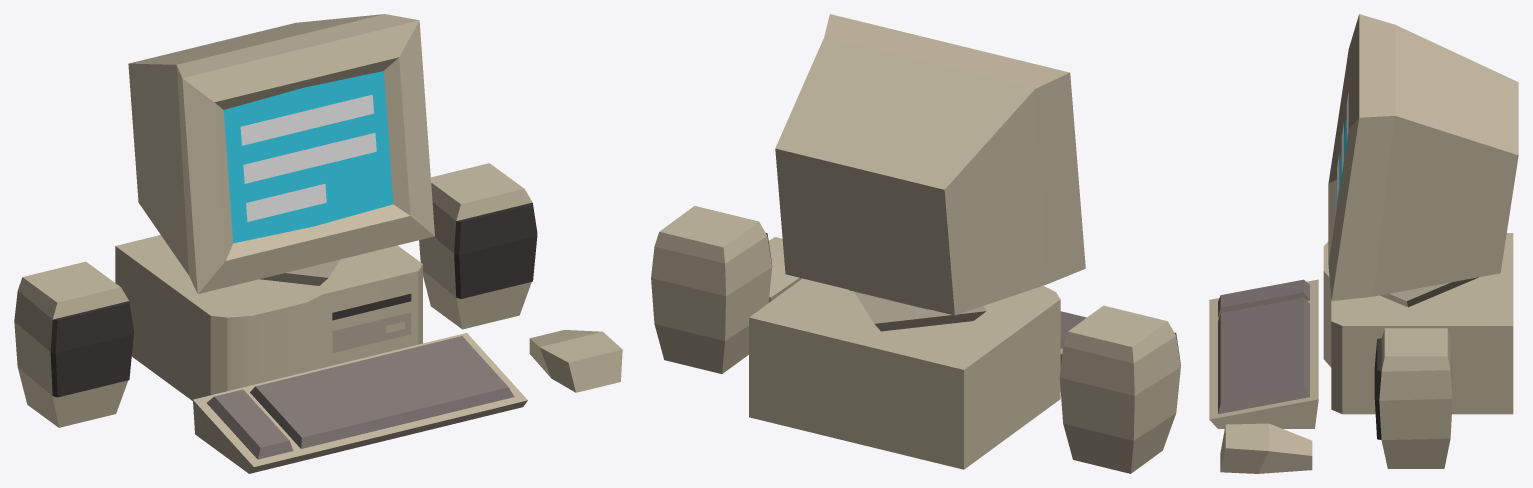
Rendered from Computer 90s.glb.
The picture shows the model from 3 angles, left to right: view 1: azimuth 30°, elevation 25°; view 2: azimuth 150°, elevation 25°; view 3: azimuth 270°, elevation 25°; orthographic projection. The views are drawn at different scales.
Visible parts, largest first — view 1: monitorAxistilt, computerbody, speakers, keyboard, screentext, mouse, monitorFoot; view 2: monitorAxistilt, computerbody, speakers, monitorFoot, mouse; view 3: monitorAxistilt, computerbody, keyboard, speakers, mouse, monitorFoot, screentext.
Part boxes in pixels (left/top/right/bottom): monitorAxistilt: left=128, top=14, right=434, bottom=293; computerbody: left=115, top=235, right=422, bottom=400; speakers: left=14, top=163, right=537, bottom=427; keyboard: left=193, top=333, right=527, bottom=473; screentext: left=240, top=94, right=376, bottom=221; mouse: left=529, top=330, right=622, bottom=392; monitorFoot: left=260, top=259, right=339, bottom=285; monitorAxistilt: left=775, top=14, right=1085, bottom=315; computerbody: left=749, top=278, right=1060, bottom=469; speakers: left=651, top=206, right=1180, bottom=473; monitorFoot: left=854, top=291, right=986, bottom=331; mouse: left=768, top=237, right=801, bottom=302; monitorAxistilt: left=1328, top=14, right=1518, bottom=300; computerbody: left=1323, top=233, right=1513, bottom=414; keyboard: left=1209, top=279, right=1318, bottom=428; speakers: left=1374, top=328, right=1452, bottom=468; mouse: left=1220, top=423, right=1312, bottom=473; monitorFoot: left=1380, top=277, right=1478, bottom=307; screentext: left=1337, top=92, right=1348, bottom=201.
Bounding box in the file's own units: 0.1136 × 0.0741 × 0.0692.
